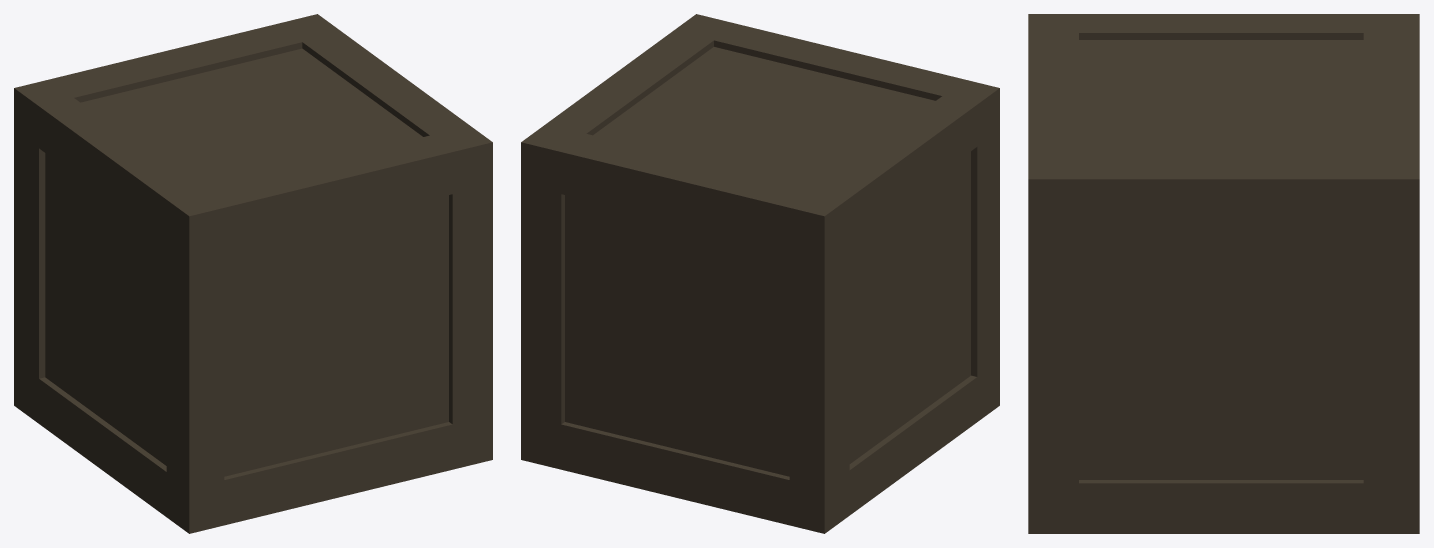
3 renders of one model, left to right at view 1: azimuth 30°, elevation 25°; view 2: azimuth 150°, elevation 25°; view 3: azimuth 270°, elevation 25°, orthographic. The views are drawn at different scales.
Parts seen in each view (by area): view 1: box; view 2: box; view 3: box.
Boxes of the visible parts, x1,y1,x2,y2 form: box: (14, 14, 492, 533); box: (521, 14, 999, 533); box: (1028, 14, 1419, 533).
Size of the model in its own units: 42.37 by 42.37 by 42.37.
